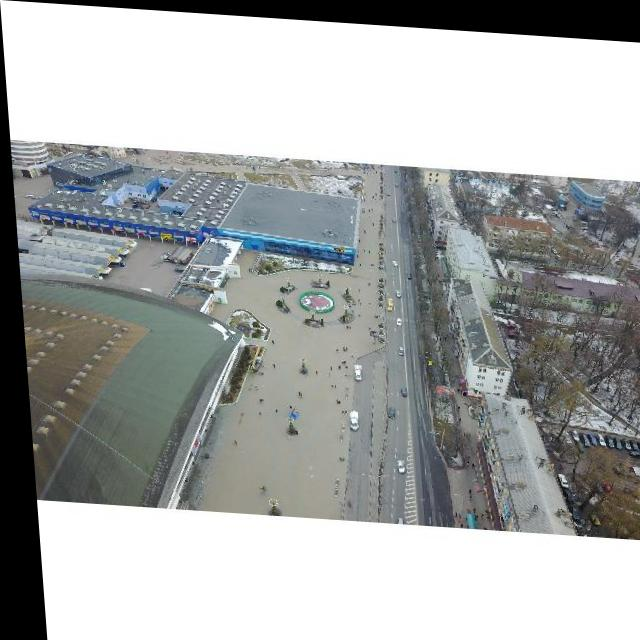vehicle: (346, 358, 359, 377), (343, 406, 354, 427), (390, 453, 402, 472), (381, 401, 390, 415), (383, 293, 390, 307), (395, 381, 402, 392), (391, 284, 398, 293), (393, 342, 399, 350), (391, 313, 397, 321), (389, 255, 394, 262), (403, 267, 408, 274)
